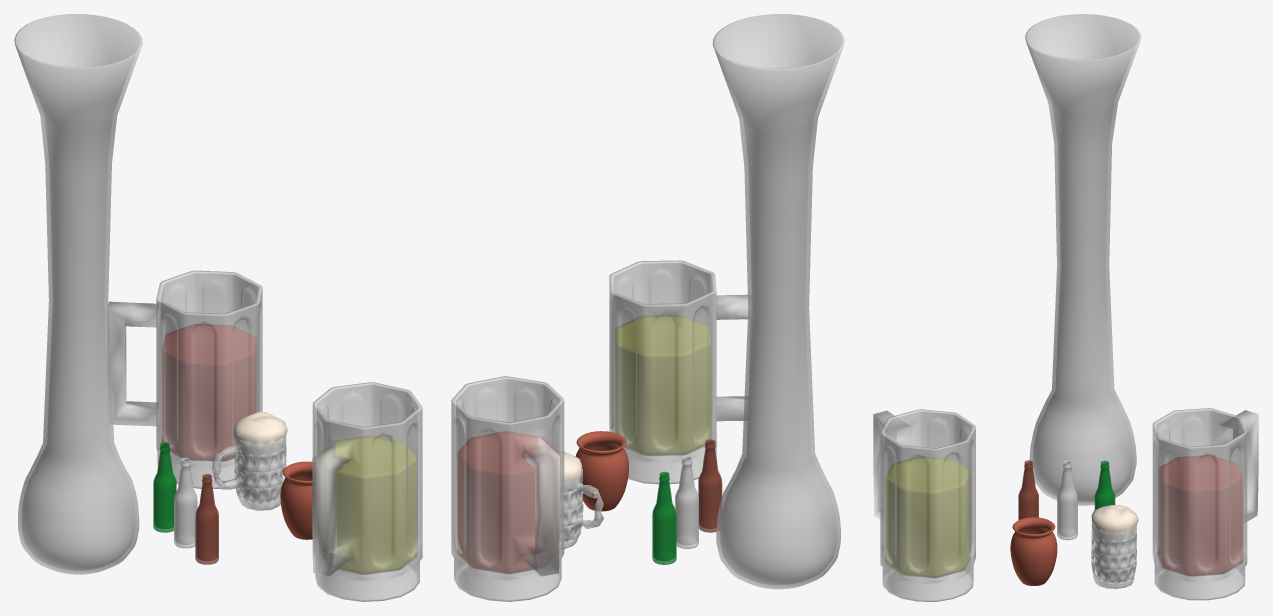
The model's file is menu5.glb.
3 renders of one model, left to right at view 1: azimuth 30°, elevation 25°; view 2: azimuth 150°, elevation 25°; view 3: azimuth 270°, elevation 25°, orthographic. The views are drawn at different scales.
Parts seen in each view (by area): view 1: yarda, tarro2, tarro1, liquido2, liquido1, tarro_cerveza, cantarito, botella vidrio1, botella vidrio3, botella vidrio2; view 2: yarda, tarro2, tarro1, liquido1, liquido2, cantarito, tarro_cerveza, botella vidrio2, botella vidrio1, botella vidrio3; view 3: yarda, tarro2, tarro1, liquido1, liquido2, tarro_cerveza, cantarito, botella vidrio3, botella vidrio1, botella vidrio2.
Part boxes in pixels (box(x1,y1,x2,y2)): yarda: box(14, 14, 142, 574); tarro2: box(108, 270, 262, 488); tarro1: box(312, 382, 422, 601); liquido2: box(162, 324, 256, 460); liquido1: box(335, 436, 416, 573); tarro_cerveza: box(211, 411, 287, 510); cantarito: box(280, 461, 312, 539); botella vidrio1: box(195, 474, 218, 564); botella vidrio3: box(174, 457, 197, 548); botella vidrio2: box(153, 442, 176, 532); yarda: box(712, 14, 844, 589); tarro2: box(451, 376, 564, 601); tarro1: box(609, 260, 751, 484); liquido1: box(615, 315, 710, 455); liquido2: box(457, 431, 557, 573); cantarito: box(575, 431, 628, 511); tarro_cerveza: box(560, 451, 603, 549); botella vidrio2: box(652, 471, 676, 564); botella vidrio1: box(698, 439, 722, 532); botella vidrio3: box(675, 456, 698, 548); yarda: box(1025, 14, 1141, 505); tarro2: box(1152, 408, 1258, 600); tarro1: box(873, 409, 975, 601); liquido1: box(885, 456, 970, 577); liquido2: box(1158, 455, 1241, 575); tarro_cerveza: box(1091, 505, 1138, 589); cantarito: box(1010, 517, 1057, 585); botella vidrio3: box(1057, 460, 1077, 540); botella vidrio1: box(1018, 460, 1038, 520); botella vidrio2: box(1094, 460, 1115, 509).
Size of the model in its own units: 0.941 by 1.55 by 1.18.
